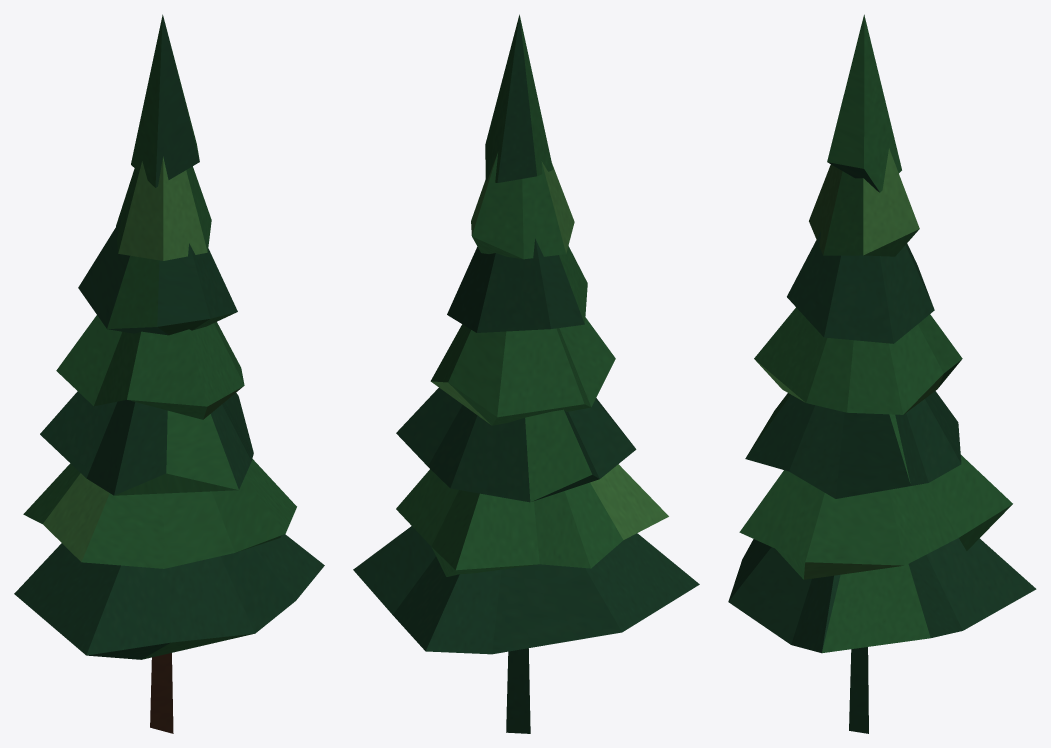
Rendered from Pino.gltf.
The picture shows the model from 3 angles, left to right: view 1: azimuth 30°, elevation 25°; view 2: azimuth 150°, elevation 25°; view 3: azimuth 270°, elevation 25°; orthographic projection.
Parts seen in each view (by area): view 1: Pino_Pino_oscuro, Pino_Pino_medio, Pino_Pino_luz, Pino_Corteza; view 2: Pino_Pino_oscuro, Pino_Pino_medio, Pino_Pino_luz; view 3: Pino_Pino_medio, Pino_Pino_oscuro, Pino_Pino_luz.
Part boxes in pixels (<box>): Pino_Pino_oscuro: <box>14,14,324,659</box>; Pino_Pino_medio: <box>23,15,296,659</box>; Pino_Pino_luz: <box>43,156,243,561</box>; Pino_Corteza: <box>150,653,173,733</box>; Pino_Pino_oscuro: <box>353,14,699,733</box>; Pino_Pino_medio: <box>396,15,623,576</box>; Pino_Pino_luz: <box>431,154,668,539</box>; Pino_Pino_medio: <box>739,14,1012,653</box>; Pino_Pino_oscuro: <box>728,162,1036,733</box>; Pino_Pino_luz: <box>755,148,943,579</box>.
Size of the model in its own units: 4.72 by 12 by 4.69.
Materials: 4 (4 with a texture image).
